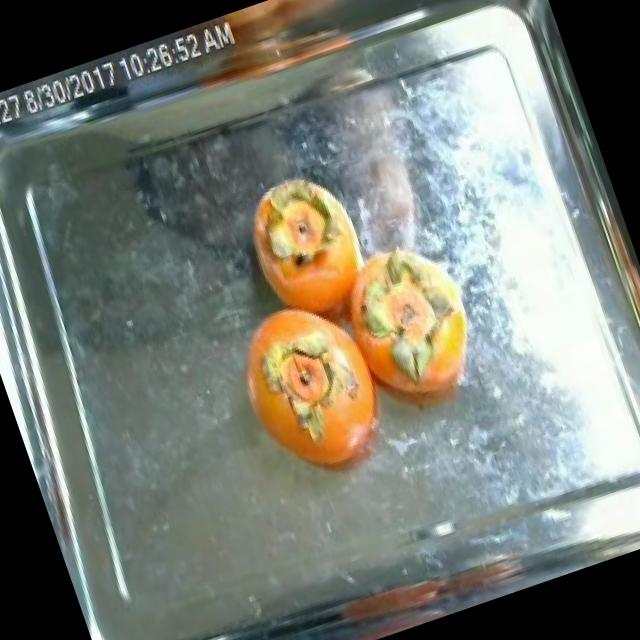Fruit: (216, 148, 387, 345)
